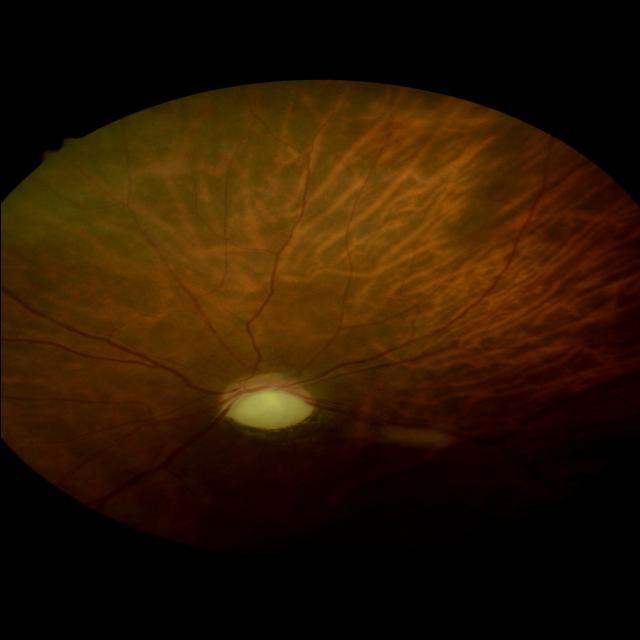cup: (228, 388, 310, 424)
disk: (220, 373, 318, 431)
